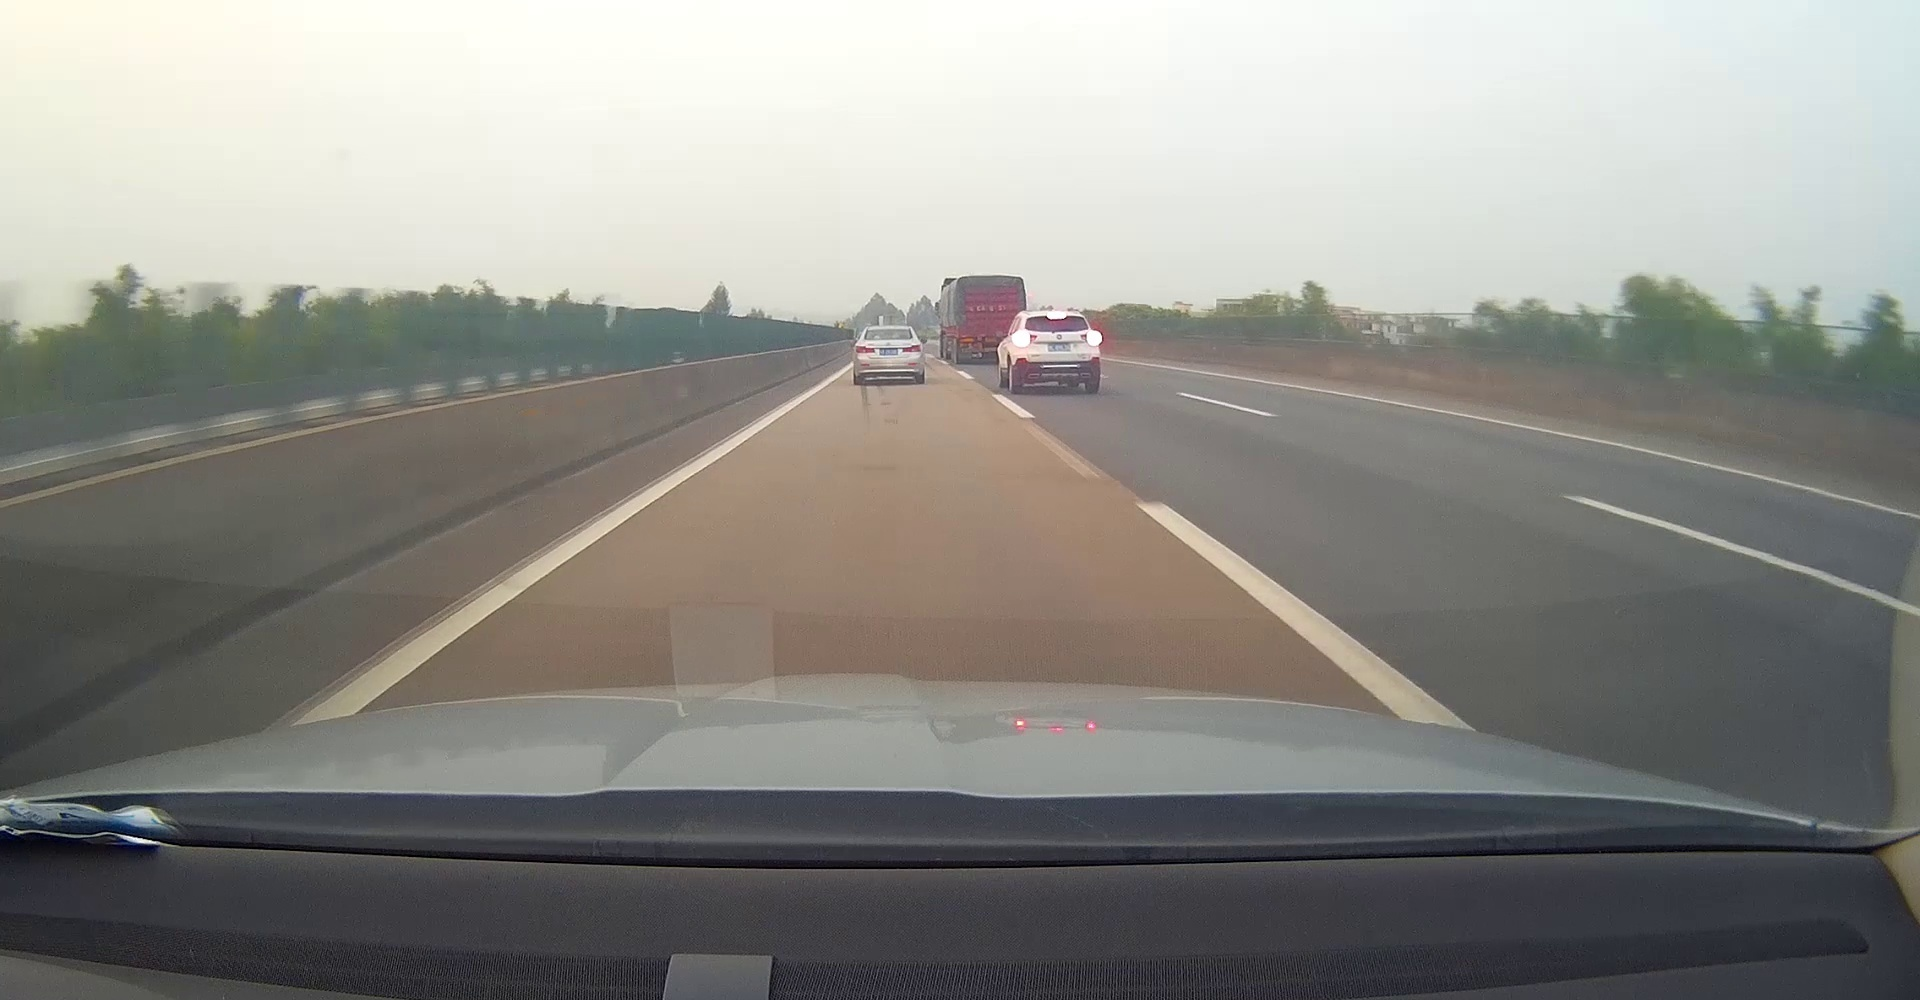L_light: (1015, 332, 1037, 343), (855, 345, 875, 354)
R_light: (1081, 332, 1098, 341), (903, 344, 921, 352)
T_light: (1050, 315, 1064, 319), (883, 330, 897, 332)
day-brake: (1011, 312, 1100, 393)
day-no: (855, 327, 924, 385)
